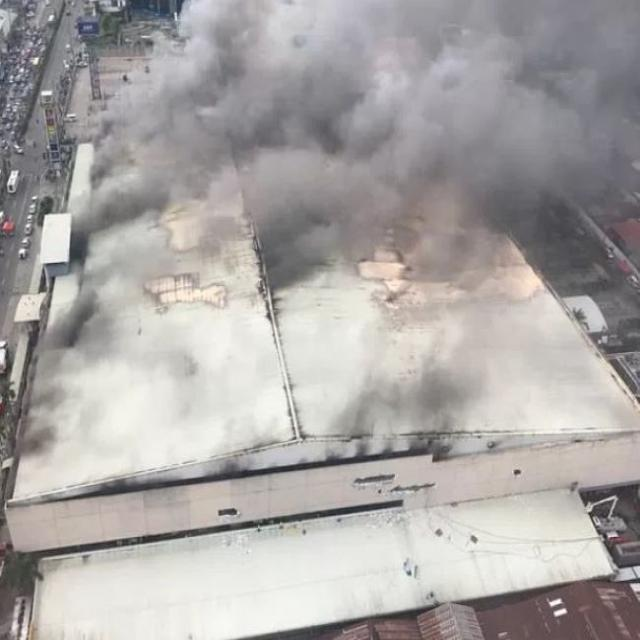Smoke: (40, 21, 637, 424)
